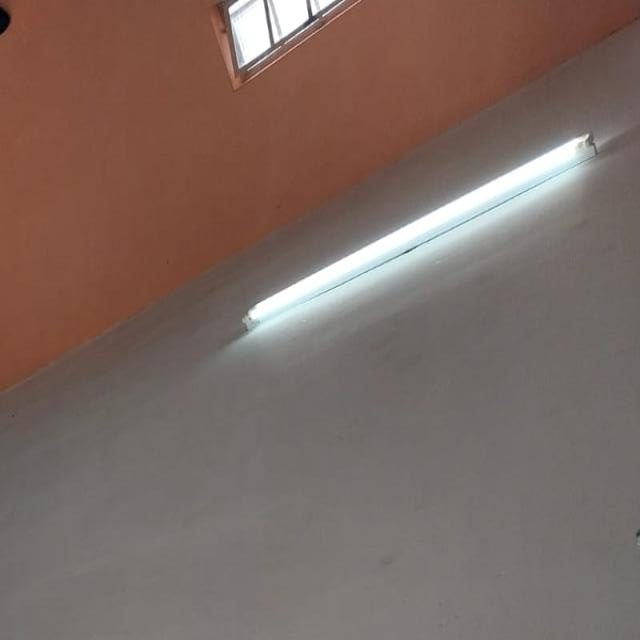fluorescent tube: (200, 88, 608, 360)
